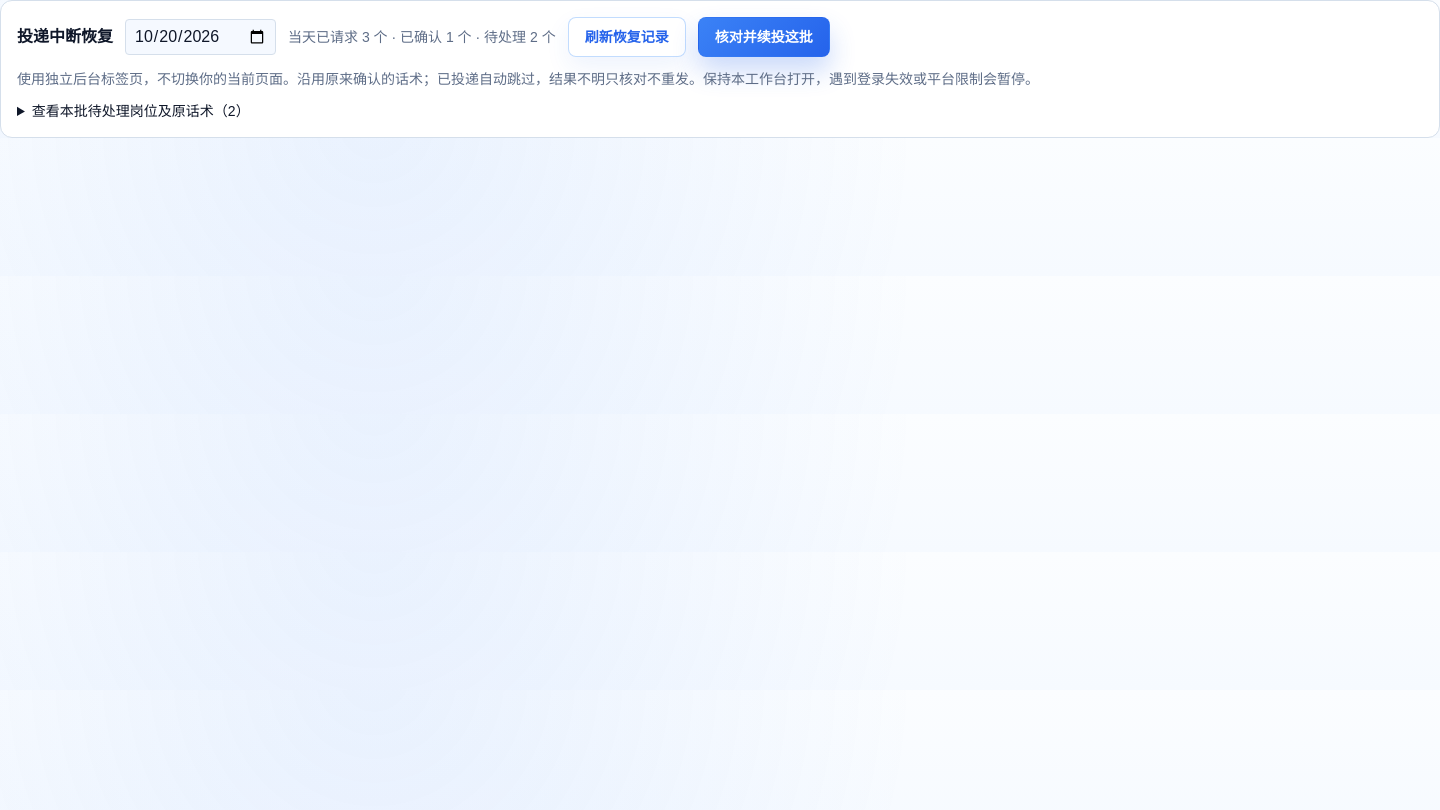
Test: skips confirmed rows and stops before the next send after an uncertain result
Click the button "核对并续投这批" at [764, 37], box [698,17,830,57]
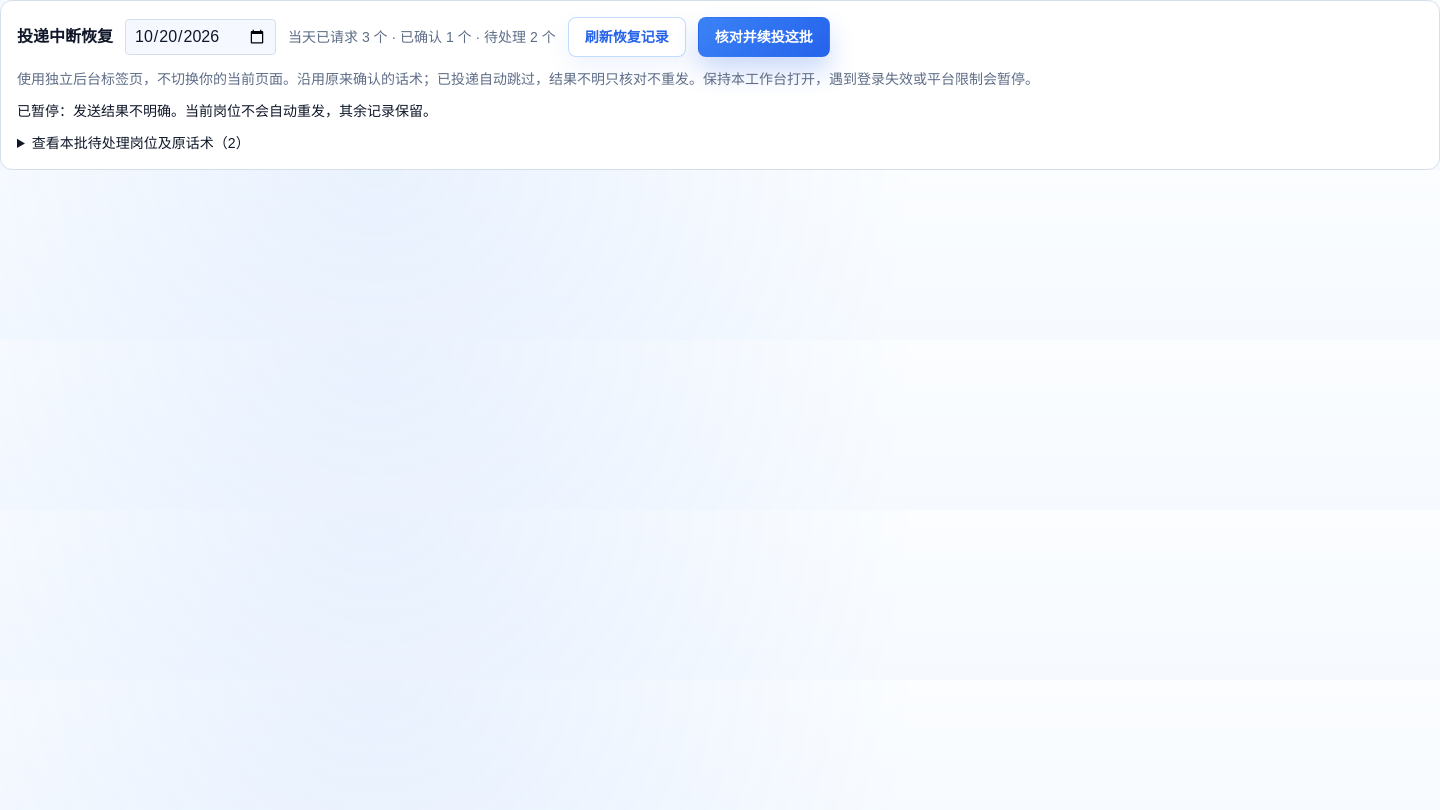
Check: the text "已暂停：发送结果不明确。当前岗位不会自动重发，其余记录保留。" is shown, box [17,103,437,119]
